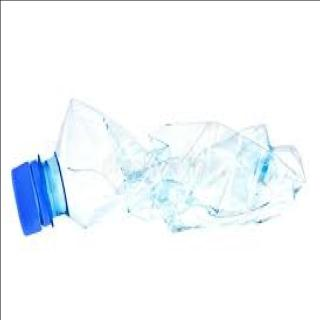Anorganik: (8, 90, 312, 260)
